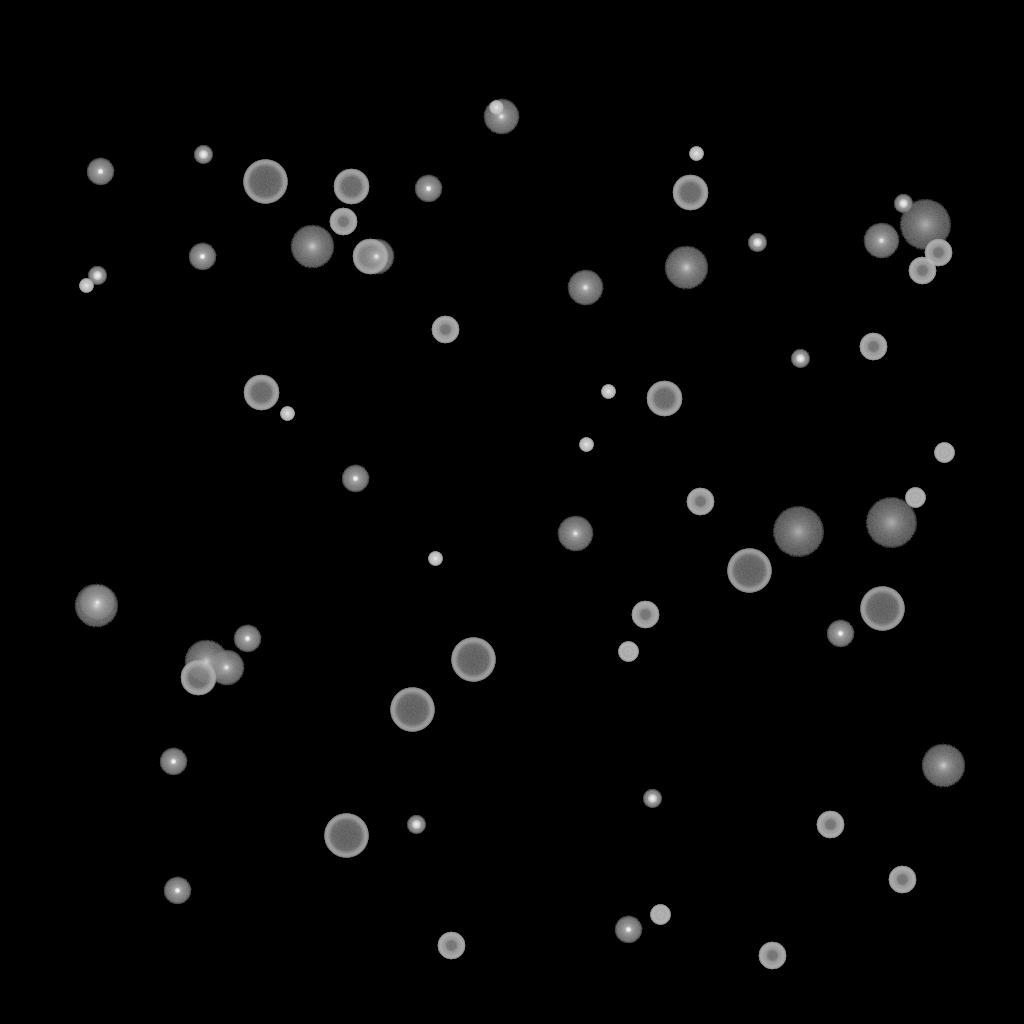depth:-10: (414, 175, 442, 203), (341, 465, 369, 493), (163, 877, 191, 905), (86, 158, 114, 186), (188, 243, 216, 271), (826, 620, 854, 648), (159, 748, 187, 776), (614, 916, 642, 944), (233, 625, 261, 653)
depth:-20: (894, 195, 912, 213), (791, 350, 809, 368), (88, 267, 106, 285), (194, 146, 212, 164), (748, 234, 766, 252), (407, 816, 425, 834), (643, 790, 661, 808)
depth:-30: (280, 407, 294, 421), (79, 279, 93, 293), (689, 147, 703, 161), (601, 385, 615, 399), (579, 438, 593, 452), (489, 101, 503, 115), (428, 552, 442, 566)
depth:-40: (905, 488, 925, 508), (934, 443, 954, 463), (650, 905, 670, 925), (618, 642, 638, 662)
depth:-50: (431, 316, 459, 344), (631, 601, 659, 629), (329, 208, 357, 236), (924, 239, 952, 267), (908, 257, 936, 285), (686, 488, 714, 516), (888, 866, 916, 894), (437, 932, 465, 960), (816, 811, 844, 839), (758, 942, 786, 970), (859, 333, 887, 361)
depth:-60: (352, 239, 388, 275), (333, 169, 369, 205), (180, 660, 216, 696), (646, 381, 682, 417), (672, 175, 708, 211), (243, 375, 279, 411)
depth:-70: (324, 814, 368, 858), (390, 688, 434, 732), (451, 638, 495, 682), (860, 587, 904, 631), (243, 160, 287, 204), (727, 549, 771, 593)
depth:0: (557, 516, 593, 552), (863, 223, 899, 259), (358, 239, 394, 275), (79, 585, 115, 621), (483, 99, 519, 135), (567, 270, 603, 306), (208, 650, 244, 686)
depth:10: (664, 246, 708, 290), (184, 640, 228, 684), (74, 584, 118, 628), (921, 744, 965, 788), (290, 225, 334, 269)
depth:20: (899, 200, 951, 250), (865, 498, 917, 548), (772, 507, 824, 557)
